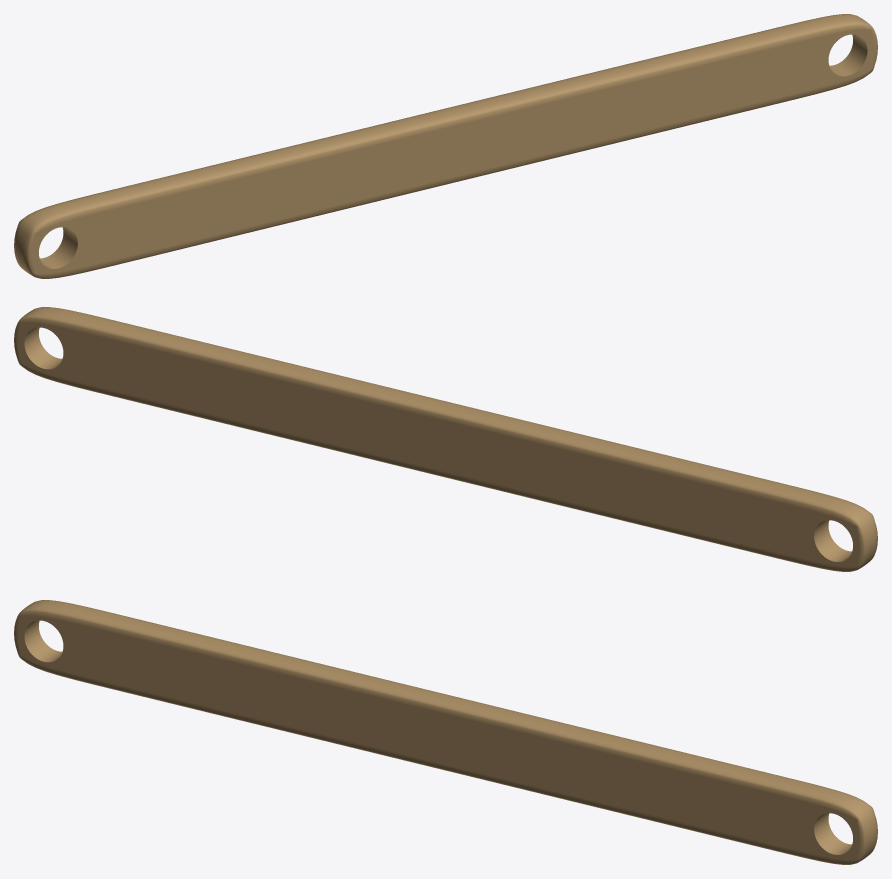
Rendered from straight beam.glb.
3 views of the same model, one above another, from view 1: azimuth 30°, elevation 25°; view 2: azimuth 150°, elevation 25°; view 3: azimuth 330°, elevation 25° (orthographic).
Parts seen in each view (by area): view 1: straight_beam; view 2: straight_beam; view 3: straight_beam.
Part boxes in pixels (bbox=[...]): straight_beam: bbox=[14, 14, 877, 278]; straight_beam: bbox=[14, 307, 877, 571]; straight_beam: bbox=[14, 600, 877, 864].
Size of the model in its own units: 9.56 by 0.7173 by 0.28.
